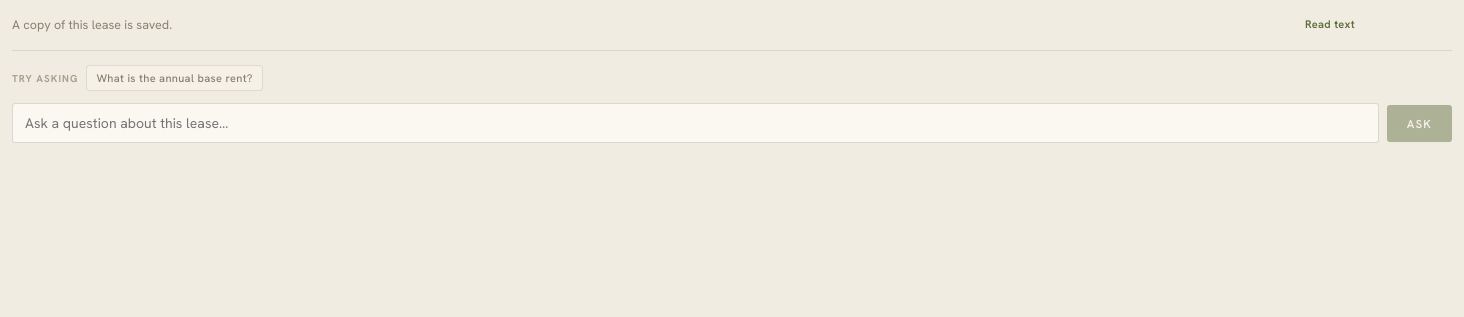
Test case: Assistant answers — rendered, not printed › turns the markdown into real elements and leaves no markers behind
Click the button "What is the annual base rent?". click: (175, 78)
box: [86, 65, 263, 91]
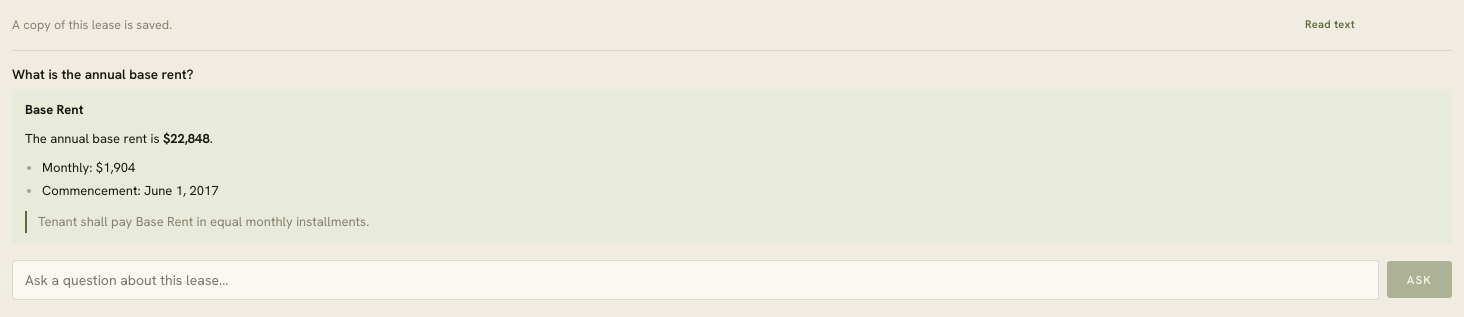
Check: the element with class "ans" is shown, box [12, 89, 1452, 244]
Check: the text with class "ans-h" reads "Base Rent", box [25, 101, 83, 118]
Check: the text "$22,848" is shown, box [163, 130, 210, 147]
